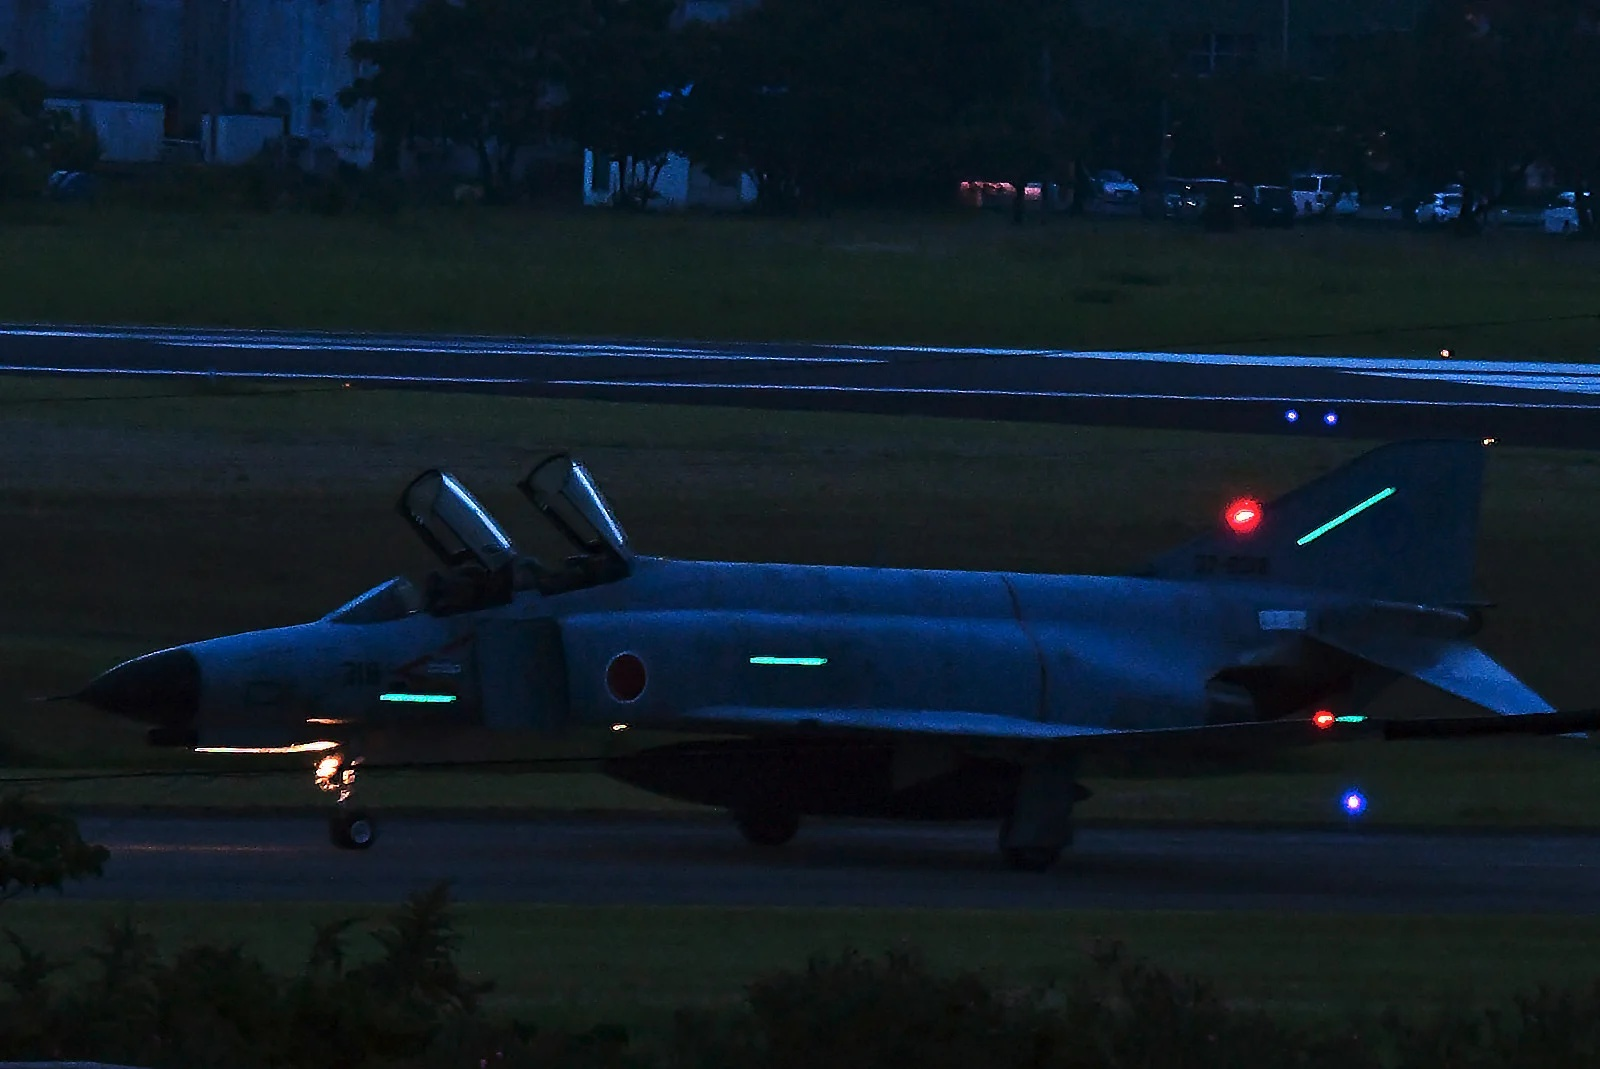F4: (26, 437, 1600, 870)
